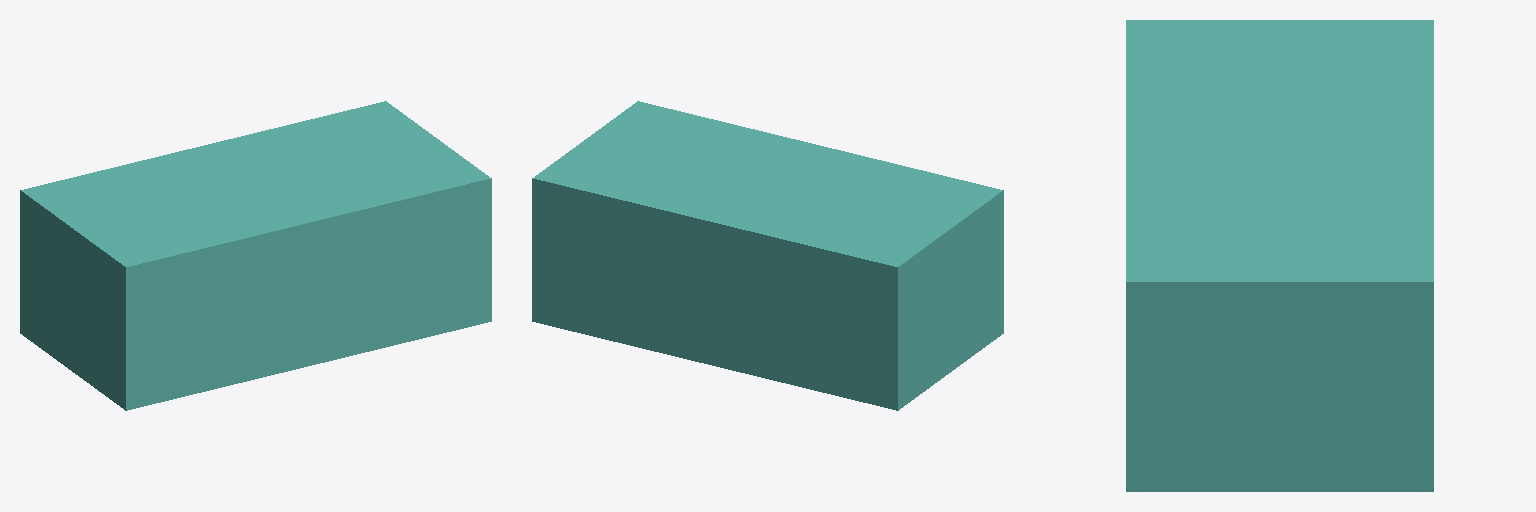
robot.urdf — obj_02:
<?xml version="1.0"?>
<robot name="obj_02">
  <!-- tissue box: cardboard, 150 g. Written by Darius 0.2.0. Link frame: +z up, origin at the capture-time bounding-box center; place it at the pose in world.json -->
  <mujoco>
    <compiler meshdir="../meshes/" discardvisual="true" balanceinertia="true" fusestatic="false" />
  </mujoco>
  <link name="obj_02">
    <inertial>
      <origin xyz="0 0 0" rpy="0 0 0" />
      <mass value="0.15" />
      <inertia ixx="0.000455499" ixy="0" ixz="0" iyy="0.00133006" iyz="0" izz="0.0014576" />
    </inertial>
    <visual>
      <geometry>
        <box size="0.24 0.12 0.09" />
      </geometry>
      <material name="obj_02_color">
        <color rgba="0.424 0.765 0.725 1" />
      </material>
    </visual>
    <collision name="obj_02">
      <geometry>
        <box size="0.24 0.12 0.09" />
      </geometry>
    </collision>
    <contact>
      <lateral_friction value="0.45" />
      <restitution value="0.1" />
    </contact>
  </link>
</robot>

--- Render facts (derived) ---
3 views of the same robot in one strip: view 1: azimuth 30°, elevation 25°; view 2: azimuth 150°, elevation 25°; view 3: azimuth 270°, elevation 25° (orthographic).
Model obj_02 with 1 links and 0 joints (none), rooted at obj_02, posed every joint at zero.
Links seen in each view (by area): view 1: obj_02; view 2: obj_02; view 3: obj_02.
Link boxes in pixels (left/top/right/bottom): obj_02: left=20, top=101, right=491, bottom=410; obj_02: left=532, top=101, right=1003, bottom=410; obj_02: left=1126, top=20, right=1433, bottom=491.
Bounding box of the posed robot: 0.24 × 0.12 × 0.09 m (x, y, z).
Geometry: primitives only (box / cylinder / sphere), no mesh files.
